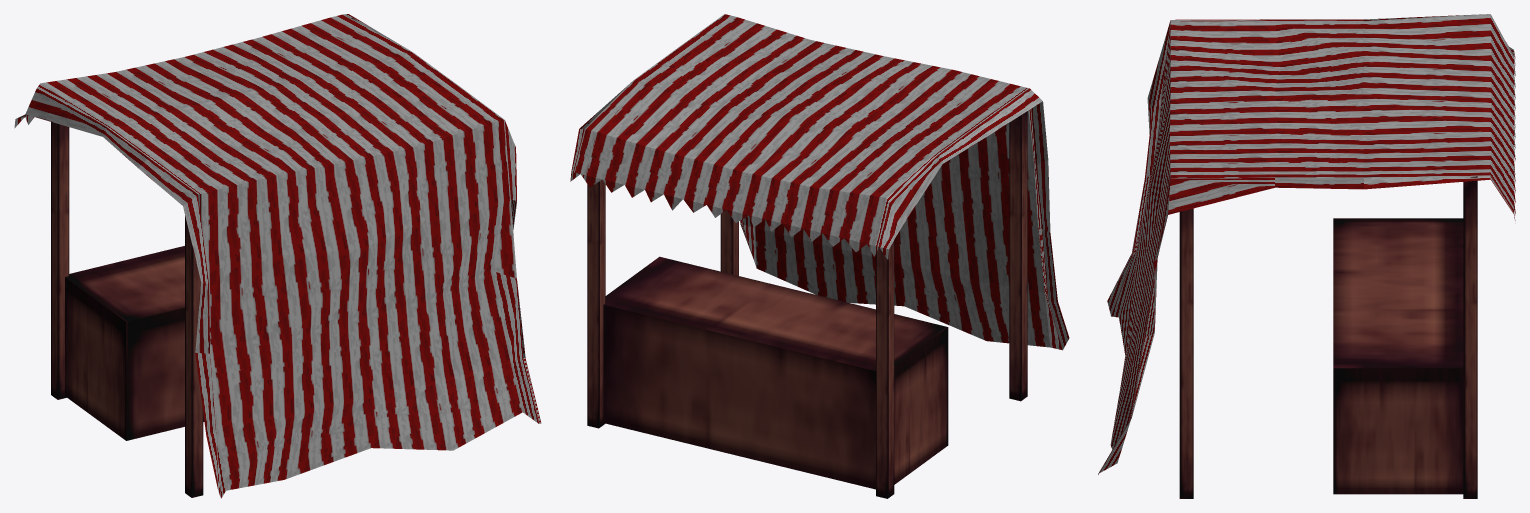
Rendered from stall.glb.
3 views of the same model, side by side, from view 1: azimuth 30°, elevation 25°; view 2: azimuth 150°, elevation 25°; view 3: azimuth 270°, elevation 25° (orthographic). The views are drawn at different scales.
Parts seen in each view (by area): view 1: Plane, Cube.004, Cube.006, Cube.002; view 2: Plane, Cube.004, Cube.002, Cube.006, Cube.003, Cube.001; view 3: Plane, Cube.004, Cube.003, Cube.001.
Boxes of the visible parts, box(x1,y1,x2,y2) form: Plane: box(14, 14, 541, 498); Cube.004: box(65, 246, 204, 440); Cube.006: box(51, 122, 69, 399); Cube.002: box(185, 215, 203, 497); Plane: box(570, 14, 1069, 350); Cube.004: box(603, 256, 948, 489); Cube.002: box(1009, 111, 1027, 401); Cube.006: box(876, 240, 894, 498); Cube.003: box(587, 121, 605, 428); Cube.001: box(720, 210, 738, 275); Plane: box(1098, 14, 1515, 474); Cube.004: box(1333, 218, 1463, 494); Cube.003: box(1463, 176, 1477, 498); Cube.001: box(1179, 208, 1193, 498).
Bounding box in the file's own units: 1.17 × 1.02 × 1.18.
Materials: 6 (6 with a texture image).
